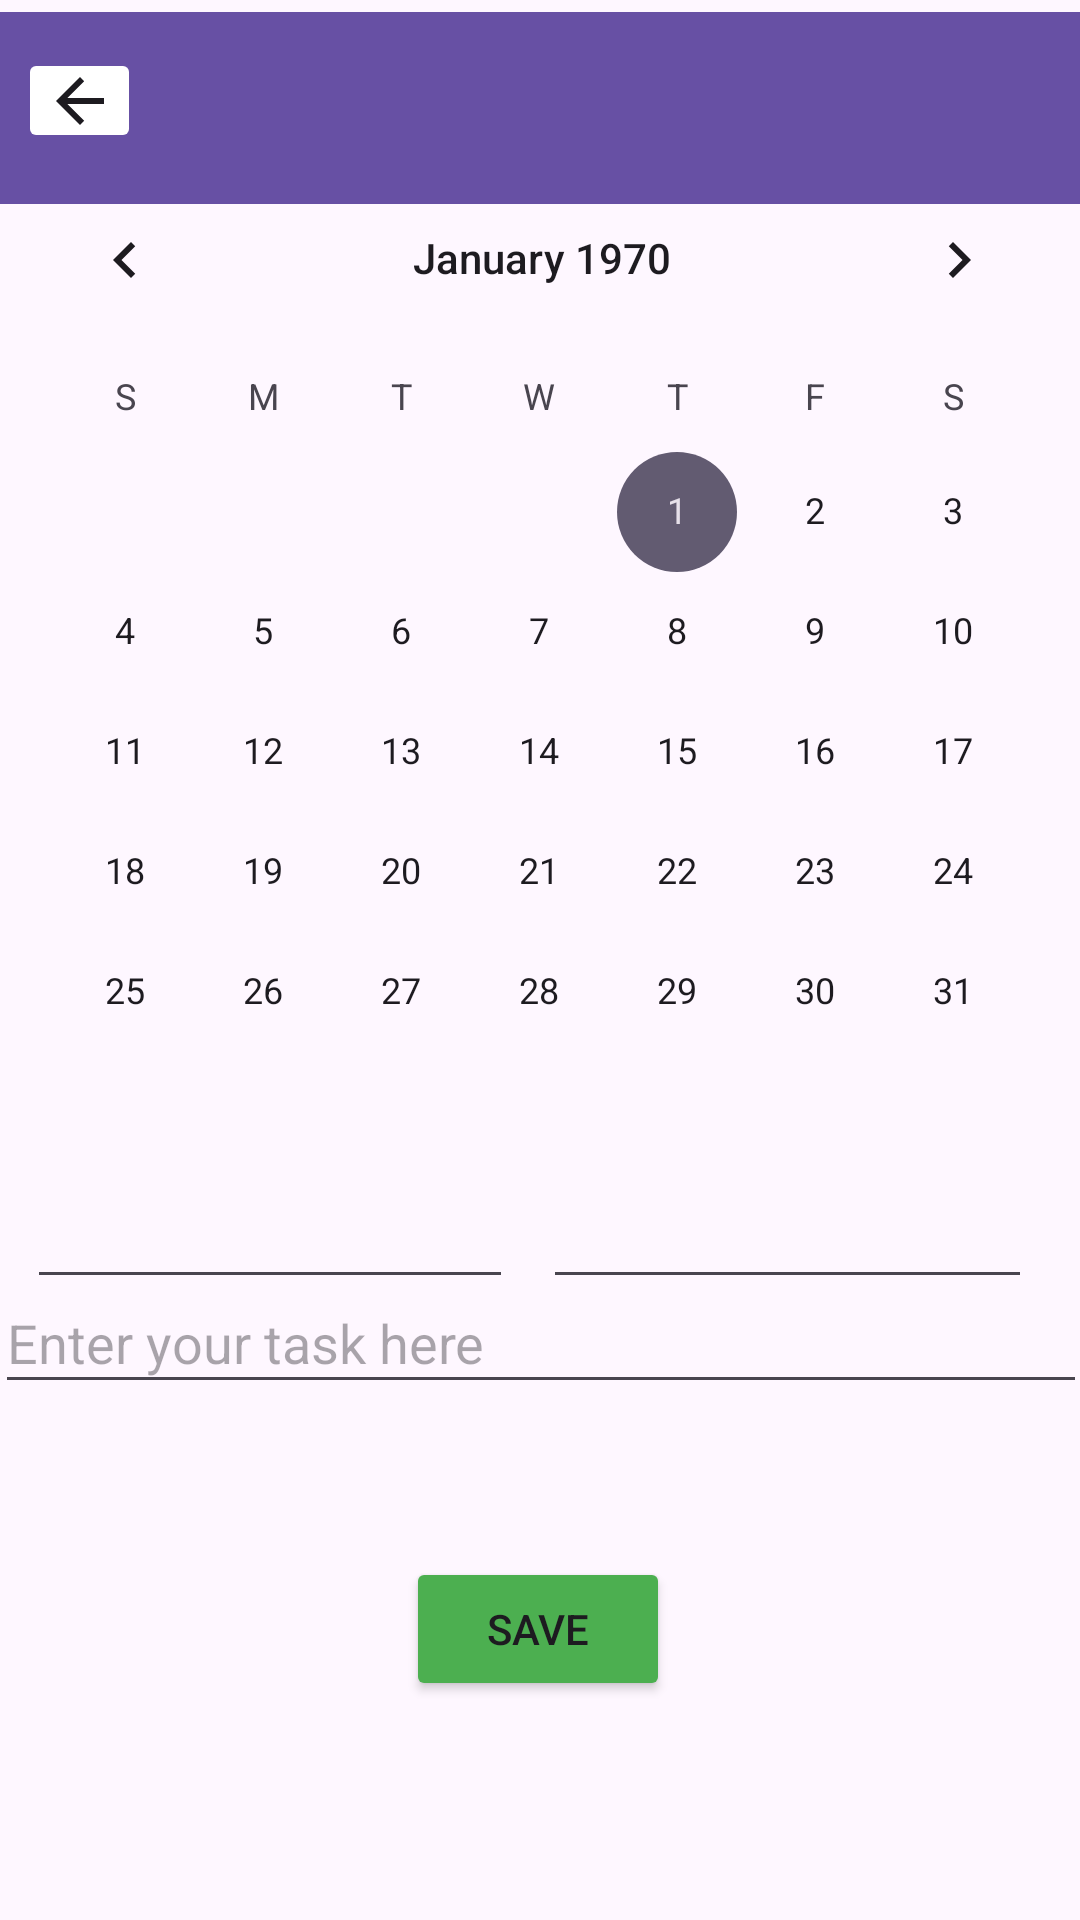

Locate icon controls on the screen. Image size 1080px×1920px, boxes as (x1, y1, x2, y2).
Back Button: (30, 66, 129, 135)
